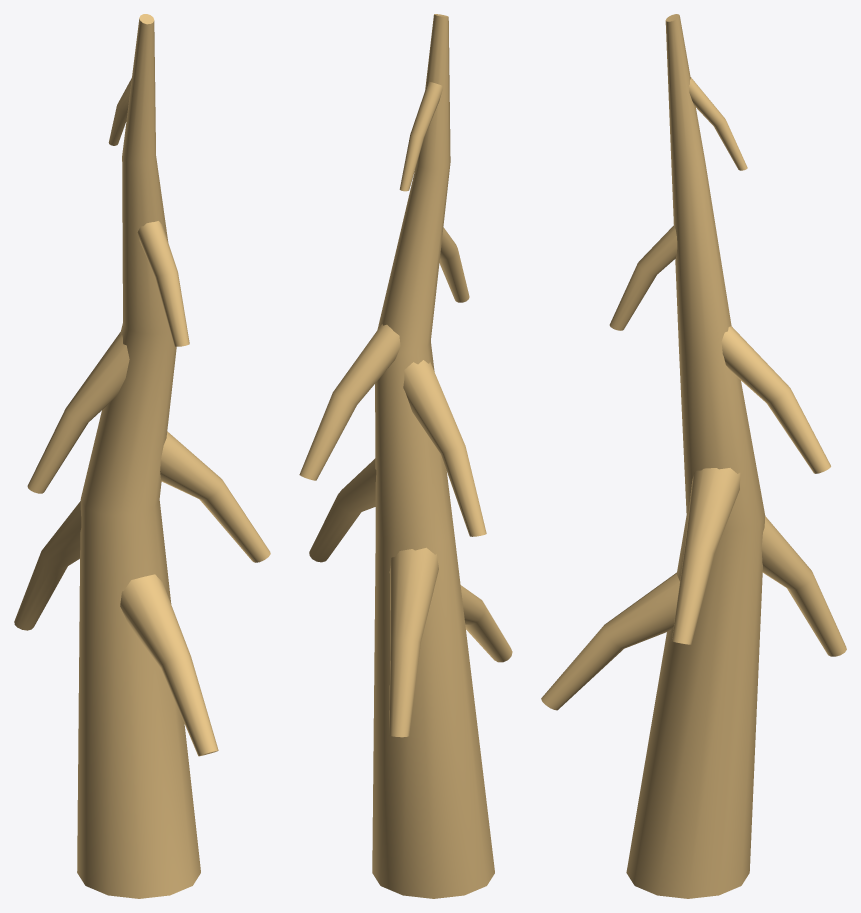
Rendered from DryTree_lvl_5.fbx.
3 renders of one model, left to right at view 1: azimuth 30°, elevation 25°; view 2: azimuth 150°, elevation 25°; view 3: azimuth 270°, elevation 25°, orthographic.
Parts seen in each view (by area): view 1: tree_4.014; view 2: tree_4.014; view 3: tree_4.014.
Boxes of the visible parts, x1,y1,x2,y2 form: tree_4.014: (14, 14, 270, 898); tree_4.014: (299, 14, 512, 898); tree_4.014: (541, 14, 846, 898).
Size of the model in its own units: 59.43 by 235 by 75.89.
